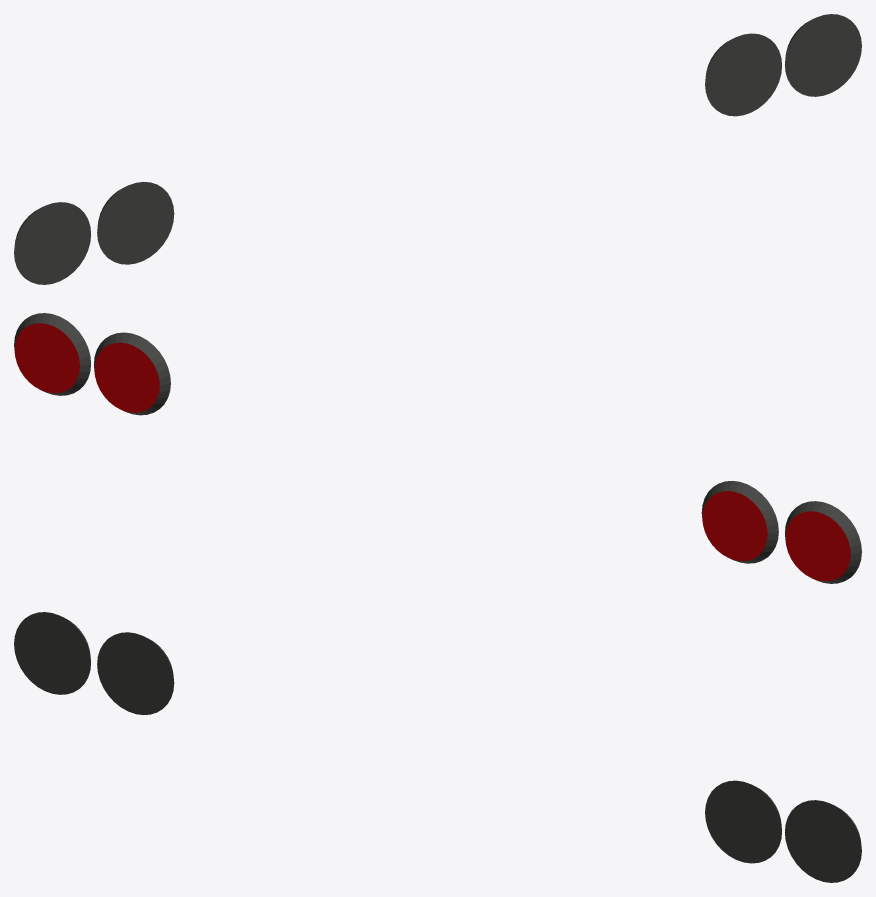
File: robadorlucescirculares.fbx
3 views of the same model, one above another, from view 1: azimuth 30°, elevation 25°; view 2: azimuth 150°, elevation 25°; view 3: azimuth 330°, elevation 25° (orthographic).
Parts seen in each view (by area): view 1: Circle.002, Circle.001, Circle.003, Circle; view 2: Circle.002, Circle.001, Circle, Circle.003; view 3: Circle.002, Circle.001, Circle, Circle.003.
Boxes of the visible parts, x1,y1,x2,y2 form: Circle.002: (97,182,174,264); Circle.001: (705,33,781,116); Circle.003: (14,202,90,284); Circle: (785,14,861,96); Circle.002: (701,481,778,563); Circle.001: (94,332,170,415); Circle: (14,313,90,395); Circle.003: (785,501,861,583); Circle.002: (97,632,174,714); Circle.001: (705,780,781,863); Circle: (785,800,861,882); Circle.003: (14,612,90,694).
Bounding box in the file's own units: 295 × 26.81 × 3.16.
